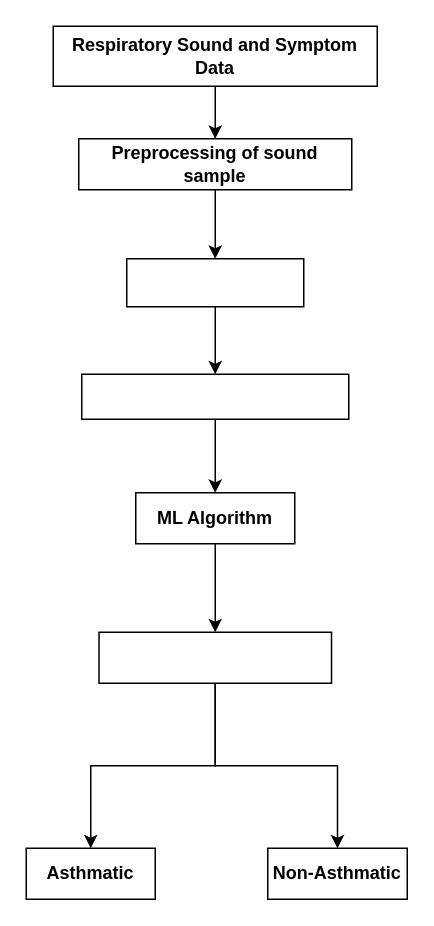
The diagram is 434 pixels wide and 926 high, and some of its shapes have lost their labels. Here are the shapes that lost their labels. From the top down, the centre of each, then its label:
the point at 214,282: Feature Extaction
the point at 214,396: Training / Validation / Testing
the point at 215,657: Detection of Asthma
